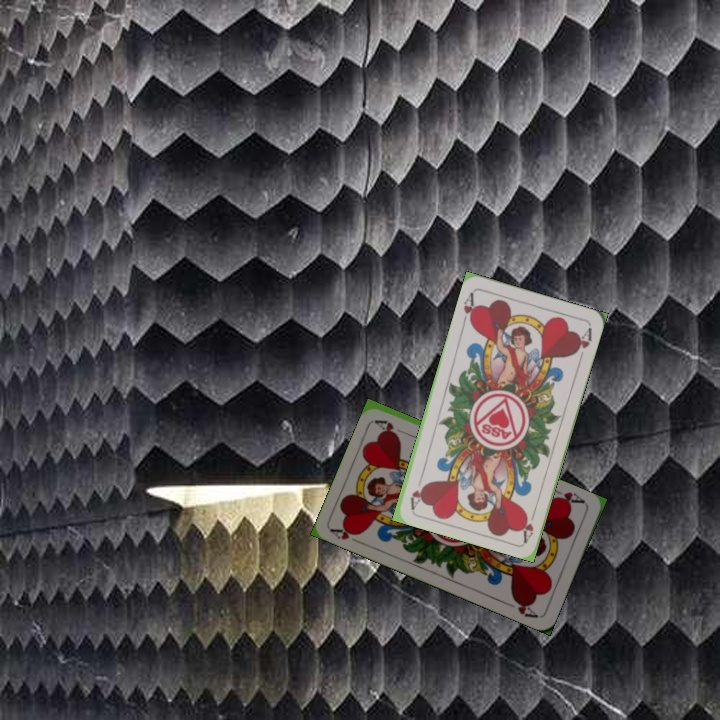HA: (328, 522, 366, 547), (549, 485, 587, 508), (458, 288, 479, 328), (518, 504, 539, 544)
